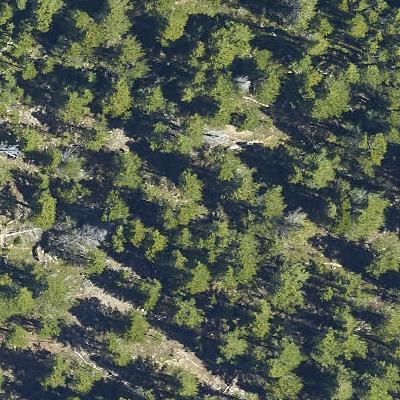tree-top: (326, 182, 393, 242), (45, 248, 114, 302), (0, 288, 59, 348), (302, 68, 358, 123), (310, 318, 371, 368), (288, 145, 344, 197), (204, 17, 258, 70), (262, 331, 310, 385), (217, 236, 262, 285), (43, 356, 109, 389), (53, 79, 98, 126), (211, 318, 255, 366), (106, 147, 149, 195), (359, 230, 400, 278), (246, 61, 288, 107), (151, 118, 203, 154), (256, 220, 307, 256), (28, 0, 70, 42), (267, 258, 309, 300), (160, 197, 202, 238), (354, 129, 394, 172), (65, 11, 108, 51), (360, 357, 400, 400), (97, 76, 137, 118), (318, 363, 363, 400), (144, 2, 185, 42), (110, 40, 156, 75), (170, 294, 209, 334), (50, 224, 100, 255), (134, 78, 173, 117), (199, 85, 236, 126), (25, 186, 61, 228), (276, 0, 316, 37), (317, 266, 353, 306), (2, 247, 42, 282), (96, 187, 135, 222), (104, 0, 135, 42), (162, 365, 200, 399), (257, 180, 292, 216), (340, 7, 374, 44), (133, 275, 167, 311), (366, 44, 400, 80), (290, 35, 321, 74), (199, 215, 234, 249), (116, 216, 150, 249), (181, 258, 212, 294), (97, 329, 129, 362), (54, 177, 89, 206), (118, 312, 147, 346), (378, 82, 400, 126), (146, 177, 178, 207), (14, 124, 48, 152), (174, 169, 203, 200), (207, 148, 238, 177), (228, 107, 261, 134), (225, 177, 255, 206), (372, 308, 400, 339), (38, 143, 65, 174), (138, 230, 167, 258), (246, 296, 274, 323), (12, 34, 38, 62), (0, 155, 20, 189), (167, 227, 192, 253), (176, 80, 199, 105), (313, 14, 336, 38), (2, 73, 19, 100), (17, 56, 36, 79), (0, 4, 16, 26)
